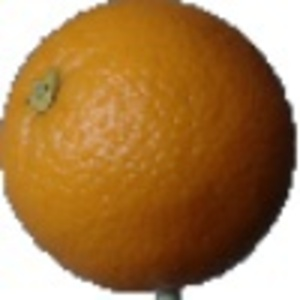laranja: (3, 2, 297, 297)
